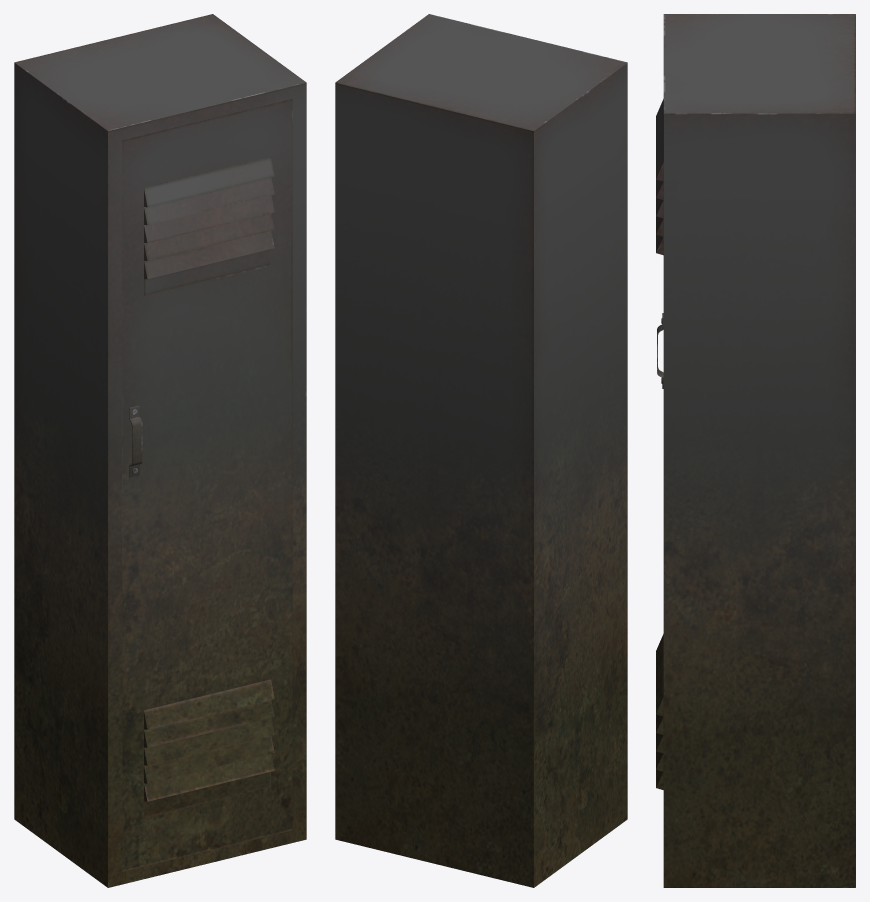
The model's file is casillero.fbx.
3 renders of one model, left to right at view 1: azimuth 30°, elevation 25°; view 2: azimuth 150°, elevation 25°; view 3: azimuth 270°, elevation 25°, orthographic. The views are drawn at different scales.
Parts seen in each view (by area): view 1: Cube.004; view 2: Cube.004; view 3: Cube.004.
Boxes of the visible parts, x1,y1,x2,y2 form: Cube.004: (14,14,306,887); Cube.004: (335,14,627,887); Cube.004: (656,14,855,887).
Size of the model in its own units: 216 by 787 by 184.
